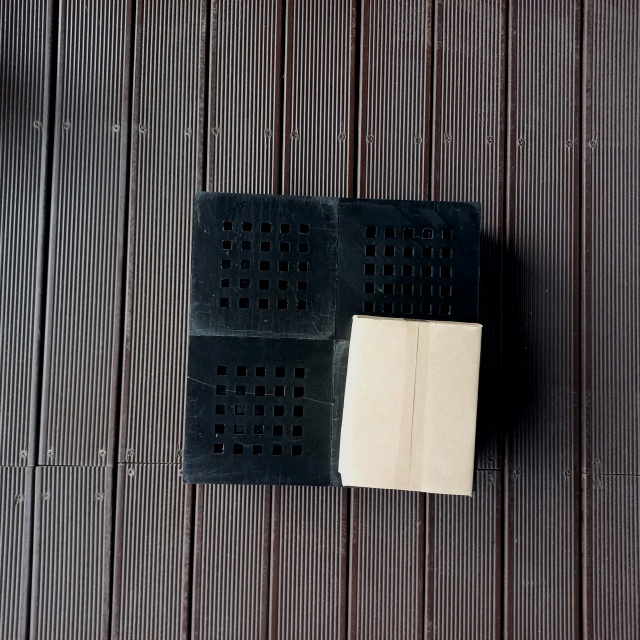box: (336, 312, 484, 498)
pallet: (179, 192, 482, 492)
